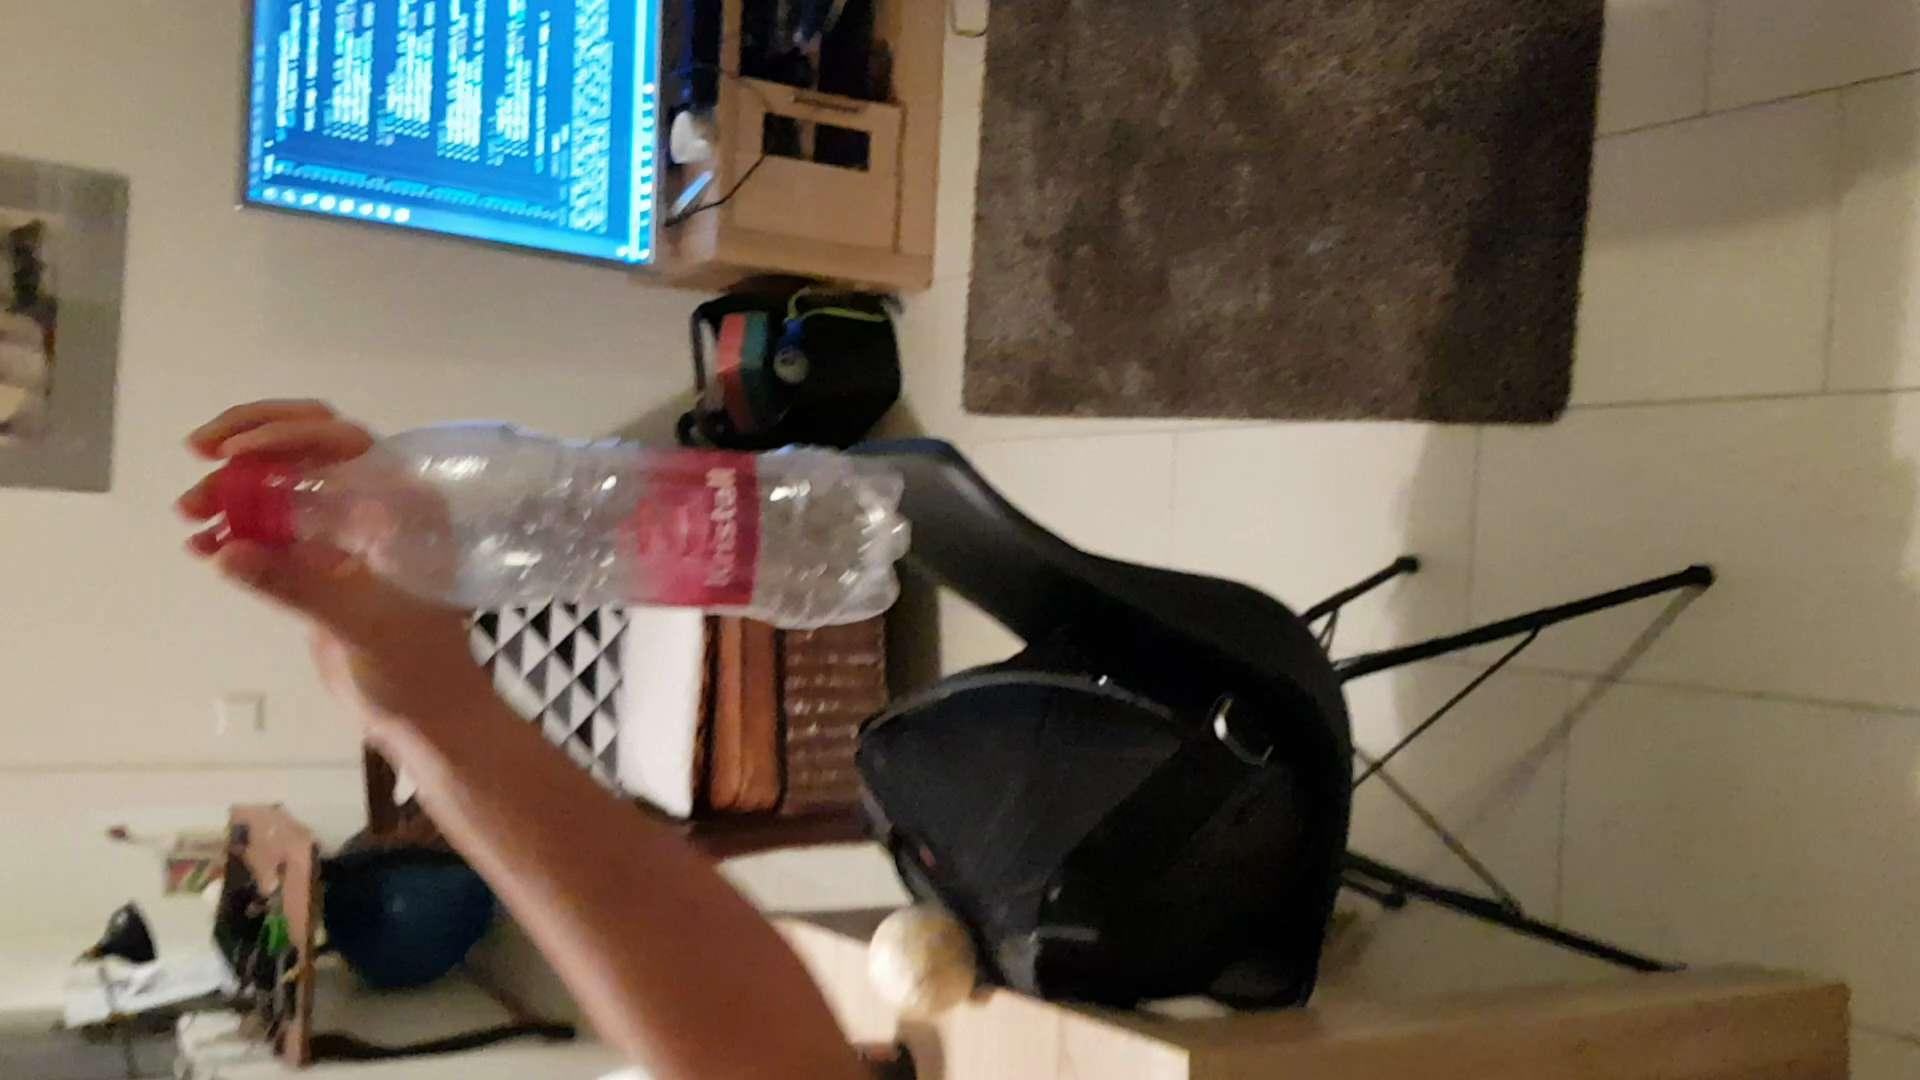Bottle: (208, 405, 911, 625)
